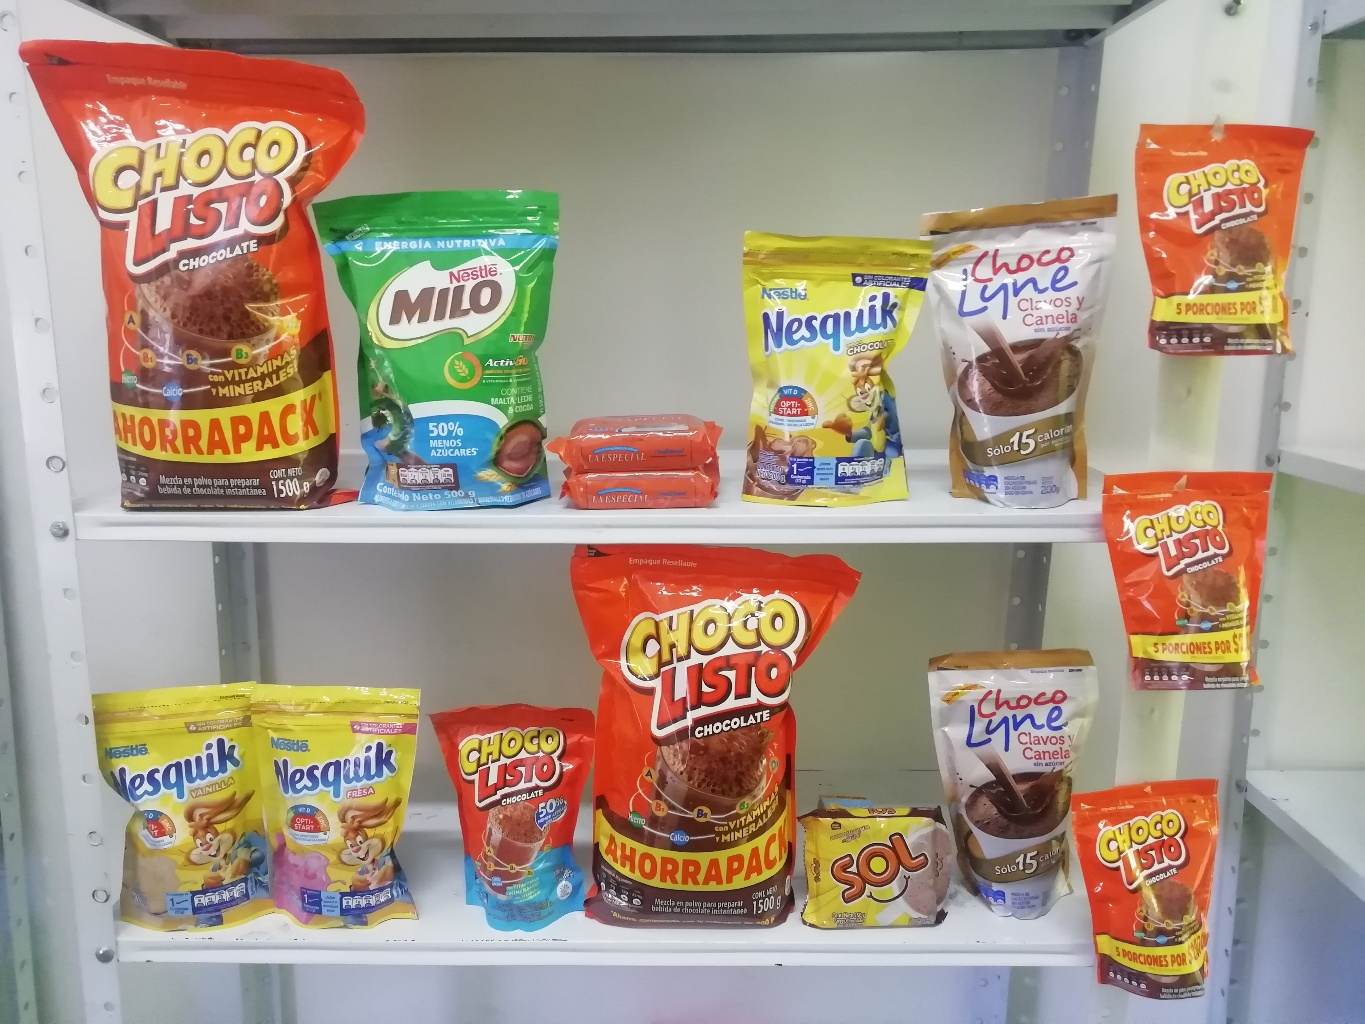COL0170103DYP1,500: (10, 41, 358, 523)
COL0170104DYP20000: (426, 694, 600, 934)
COL0170205DYP50000: (308, 189, 556, 512)
COL0170303DYP20000: (740, 224, 936, 508)
COL0170305DYP20000: (252, 679, 424, 931)
COL0170306DYP20000: (90, 689, 294, 934)
